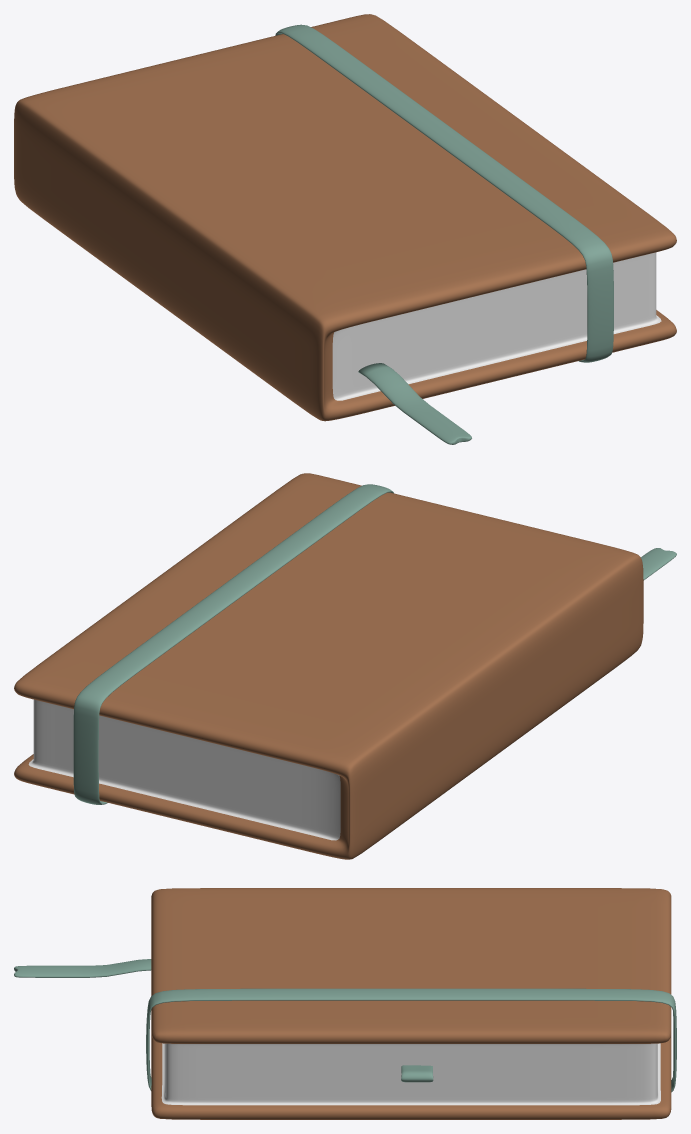
The model's file is notebook.fbx.
3 views of the same model, one above another, from view 1: azimuth 30°, elevation 25°; view 2: azimuth 150°, elevation 25°; view 3: azimuth 270°, elevation 25° (orthographic). The views are drawn at different scales.
Parts seen in each view (by area): view 1: Notebook; view 2: Notebook; view 3: Notebook.
Boxes of the visible parts, bbox=[...] form: Notebook: bbox=[14, 14, 676, 444]; Notebook: bbox=[14, 473, 676, 859]; Notebook: bbox=[14, 888, 676, 1119].
Bounding box in the file's own units: 14.82 × 4.56 × 26.69.
